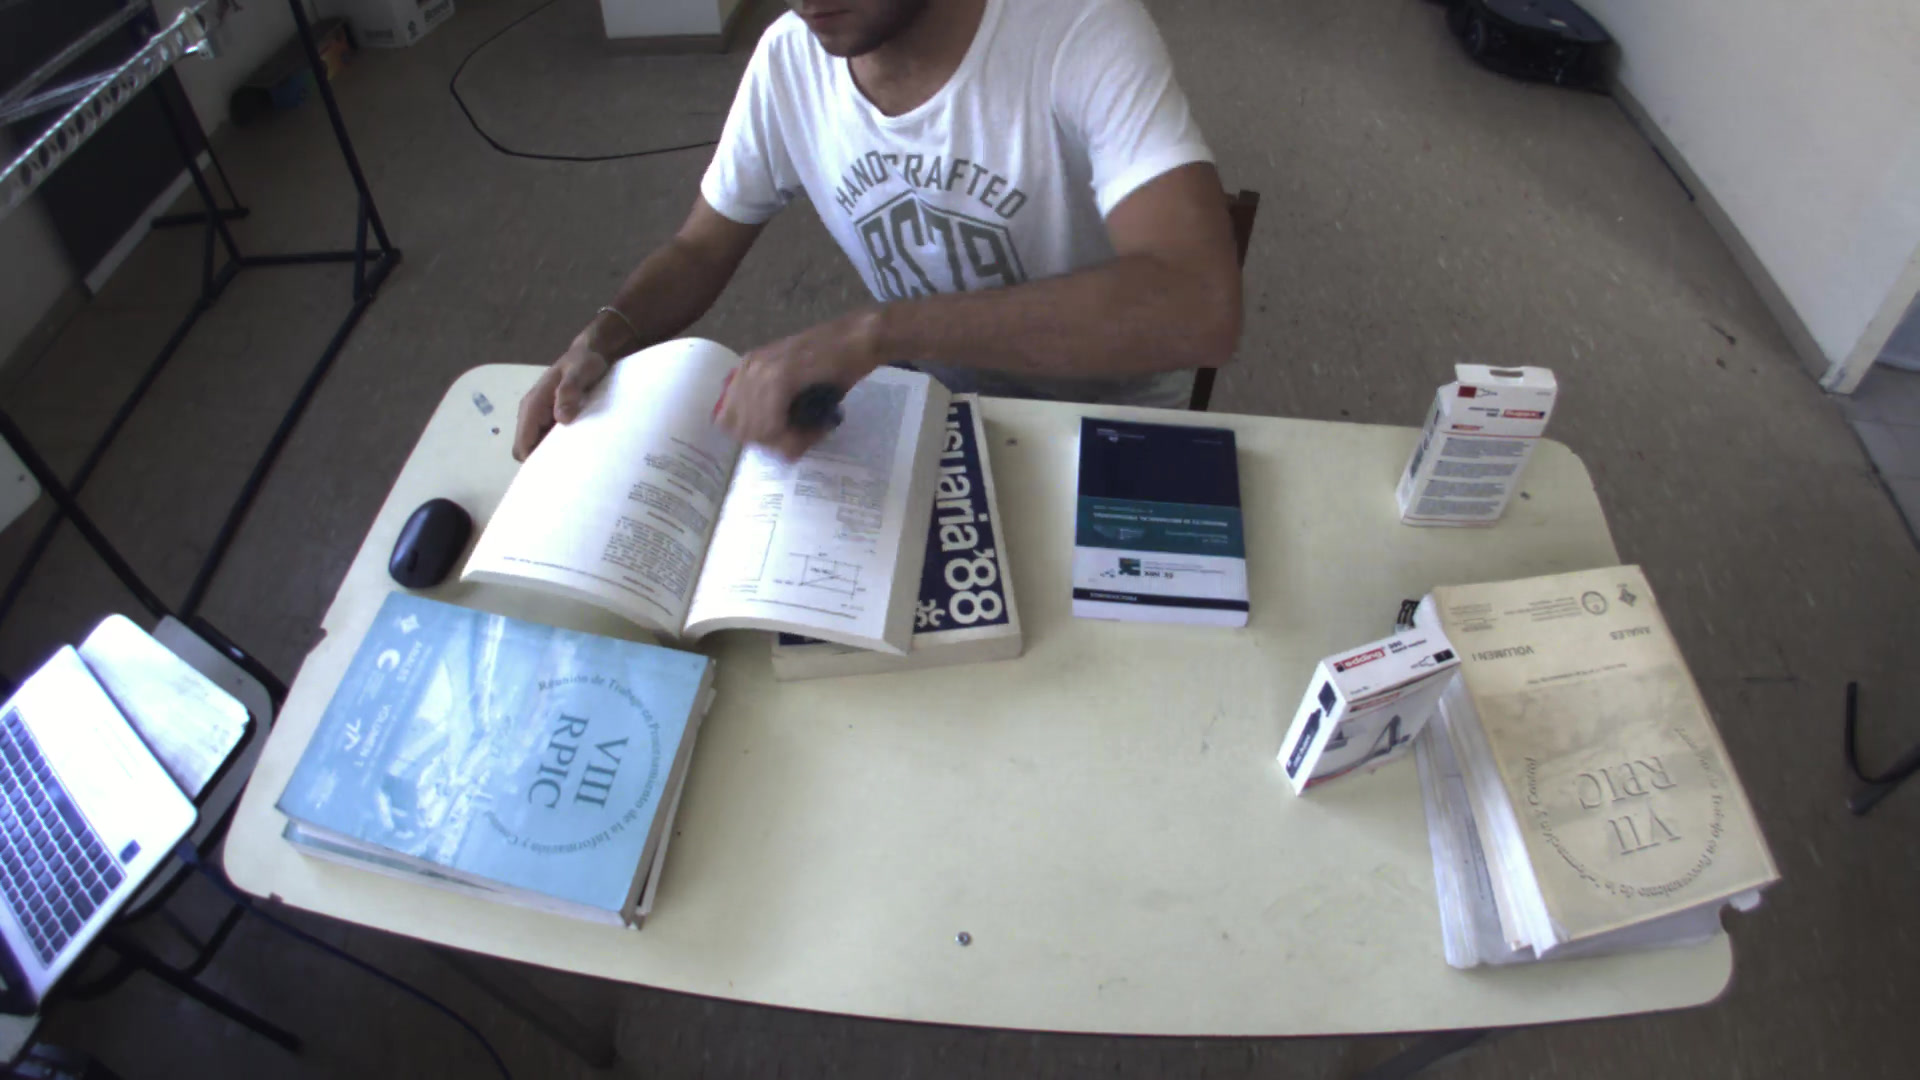hand: (699, 305, 870, 458), (495, 316, 618, 450)
